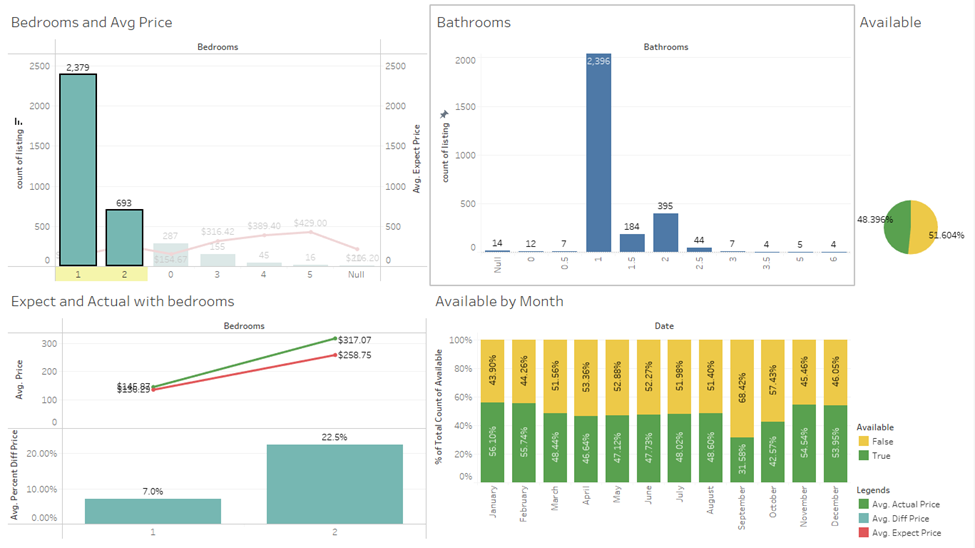

Layout of this report page (visuals, bound fields, positions):
{"tool":"tableau","page":{"name":"Dashboard 1","canvas":[1366,768],"ordinal":0},"visuals":[{"type":"worksheet","title":"Bedrooms and Avg Price","mark":"Automatic","rows":["id","price"],"cols":["bedrooms"],"box":[8,8,597,391.2]},{"type":"worksheet","title":"Bathrooms","mark":"Bar","rows":["id"],"cols":["bathrooms"],"box":[605,8,593,391.2]},{"type":"legend","title":"Available","param":"[federated.0khv39h0ugtggk186ayb418ocvbz].[none:available:nk]","box":[1198,8,160,66]},{"type":"worksheet","title":"Available","mark":"Pie","box":[1198,74,160,664]},{"type":"worksheet","title":"Expect and Actual","mark":"Line","rows":["price (calendar.csv)","price"],"cols":["bedrooms"],"box":[8,399.2,595,360.8]},{"type":"worksheet","title":"Available by Month","mark":"Bar","cols":["date"],"box":[603,399.2,595,360.8]},{"type":"legend","title":"Bathrooms","param":"[federated.0khv39h0ugtggk186ayb418ocvbz].[:Measure Names]","box":[1198,738,160,22]}]}

Visuals, with their boxes in screenshot pixels (x1, y1, x2, y2), scaled from the page's 1366x768 canvas onto the 975x548 screenshot:
"Bedrooms and Avg Price" worksheet: <box>6,6,432,285</box>
"Bathrooms" worksheet (Bar marks): <box>432,6,855,285</box>
"Available" legend: <box>855,6,969,53</box>
"Available" worksheet (Pie marks): <box>855,53,969,527</box>
"Expect and Actual" worksheet (Line marks): <box>6,285,430,542</box>
"Available by Month" worksheet (Bar marks): <box>430,285,855,542</box>
"Bathrooms" legend: <box>855,527,969,542</box>
